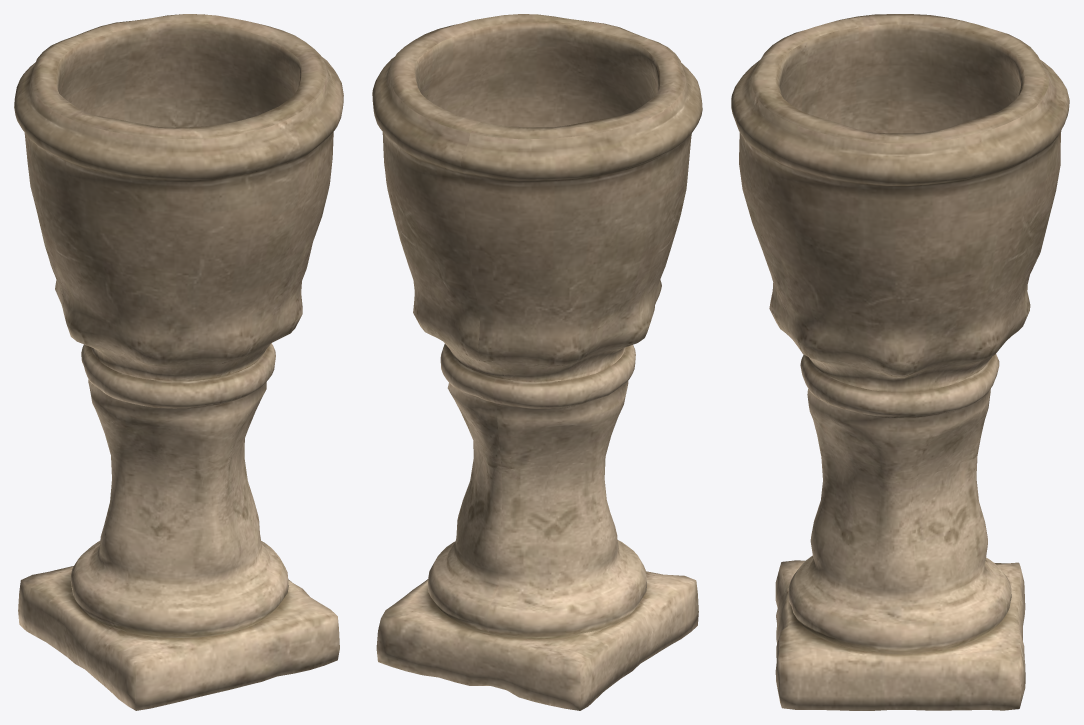
Rendered from old_greek_style_flower_pot_780b126b.fbx.
The picture shows the model from 3 angles, left to right: view 1: azimuth 30°, elevation 25°; view 2: azimuth 150°, elevation 25°; view 3: azimuth 270°, elevation 25°; orthographic projection. The views are drawn at different scales.
Visible parts, largest first — view 1: old_greek_style_flower_pot_780b126b; view 2: old_greek_style_flower_pot_780b126b; view 3: old_greek_style_flower_pot_780b126b.
Boxes of the visible parts, <box> form: old_greek_style_flower_pot_780b126b: <box>14,14,343,710</box>; old_greek_style_flower_pot_780b126b: <box>372,14,702,710</box>; old_greek_style_flower_pot_780b126b: <box>731,14,1069,710</box>.
Bounding box in the file's own units: 0.4804 × 0.9049 × 0.4716.
Materials: 1 (1 with a texture image).
